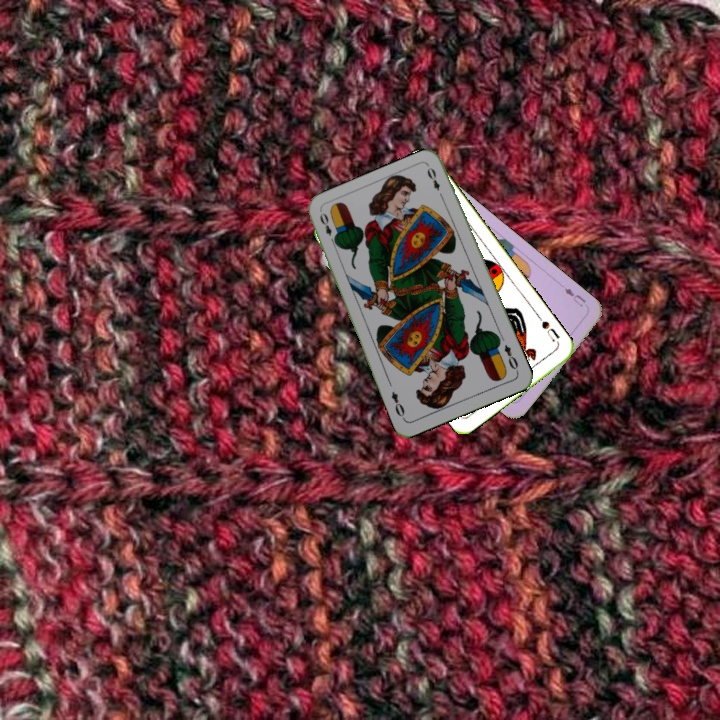EO: (316, 208, 339, 247), (500, 340, 521, 375)
EU: (560, 284, 588, 310)
SU: (533, 311, 562, 344)
